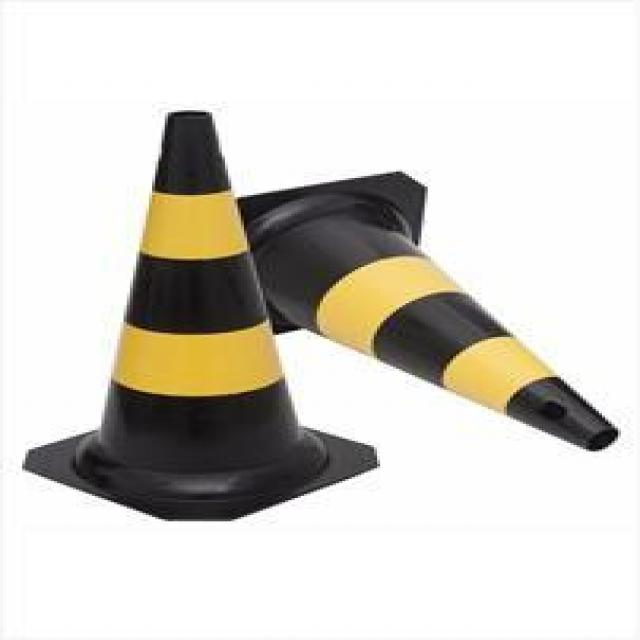cone: (73, 115, 345, 516)
